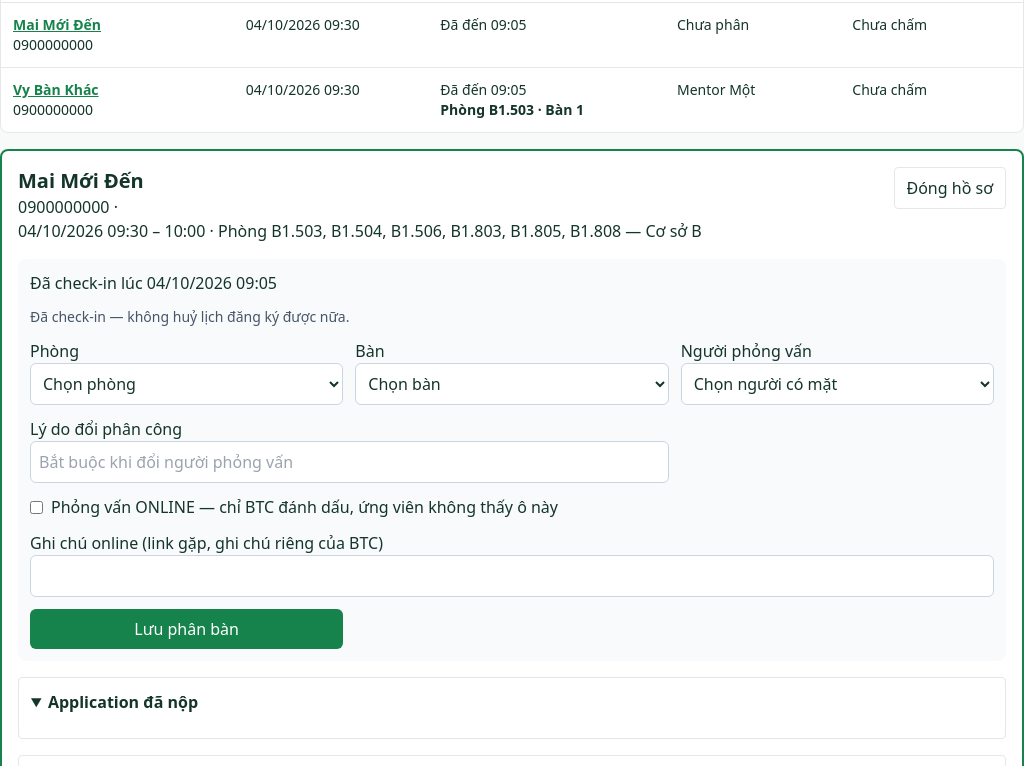
form phân bàn › chọn bàn / mentor đang có người chưa chấm → hiện lời nhắc, nút lưu vẫn bấm được
This screenshot has width=1024, height=766.
(page scrolled)
Select "B1.504" in the dropdown labelled "Phòng": [187, 384] box top-left (30, 363), bottom-right (343, 405)
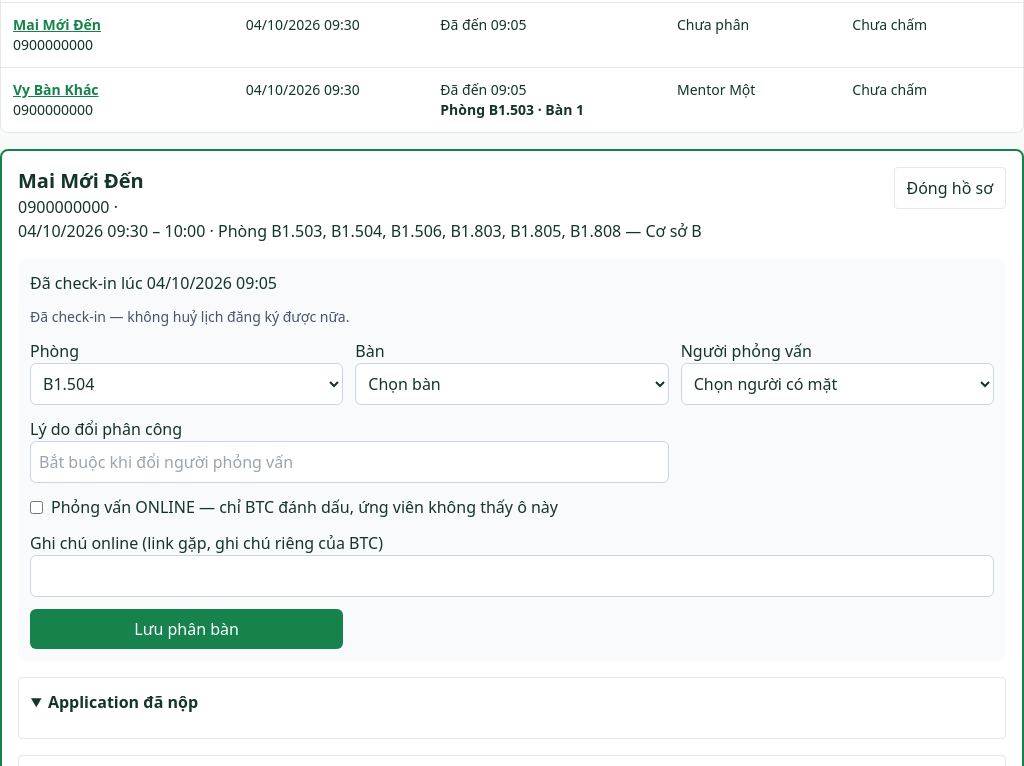
Select "3" in the dropdown labelled "Bàn": [512, 384] box top-left (355, 363), bottom-right (669, 405)
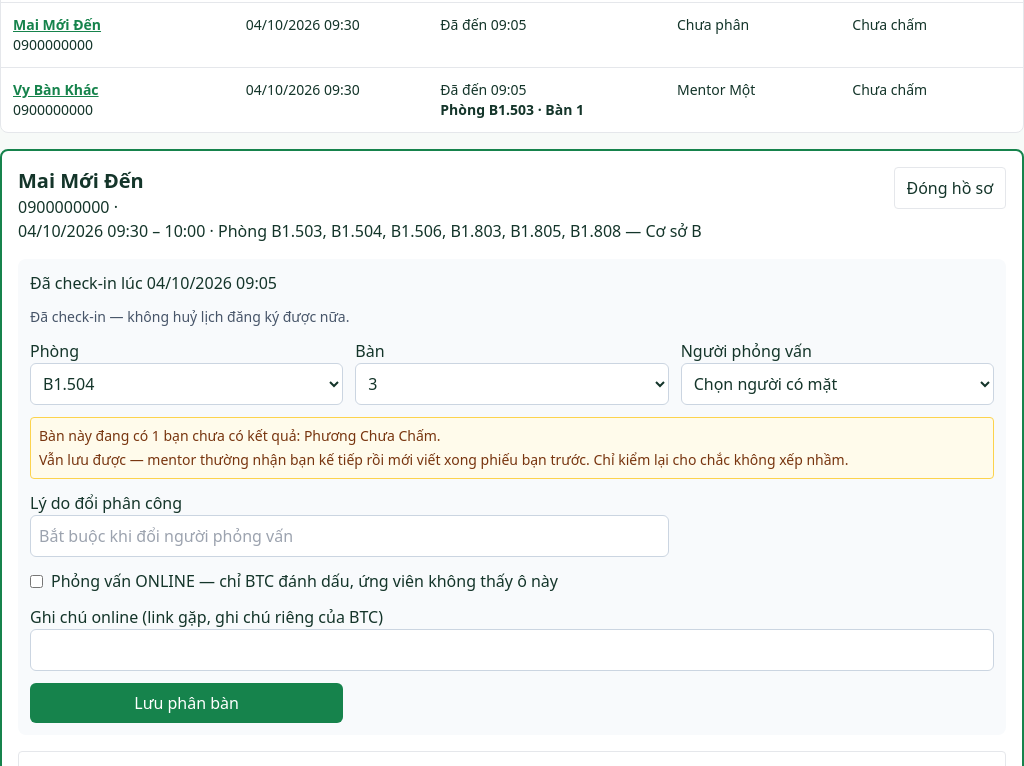
Expected: the element with test id "assign-busy-note" does not show "Mentor này"
Expected: the element with test id "assign-busy-note" shows "Bàn này đang có 1 bạn chưa có kết quả: Phương Chưa Chấm.", top-left (30, 417), bottom-right (994, 479)
Select "Mentor Một" in the dropdown labelled "Người phỏng vấn": [837, 384] box top-left (681, 363), bottom-right (994, 405)
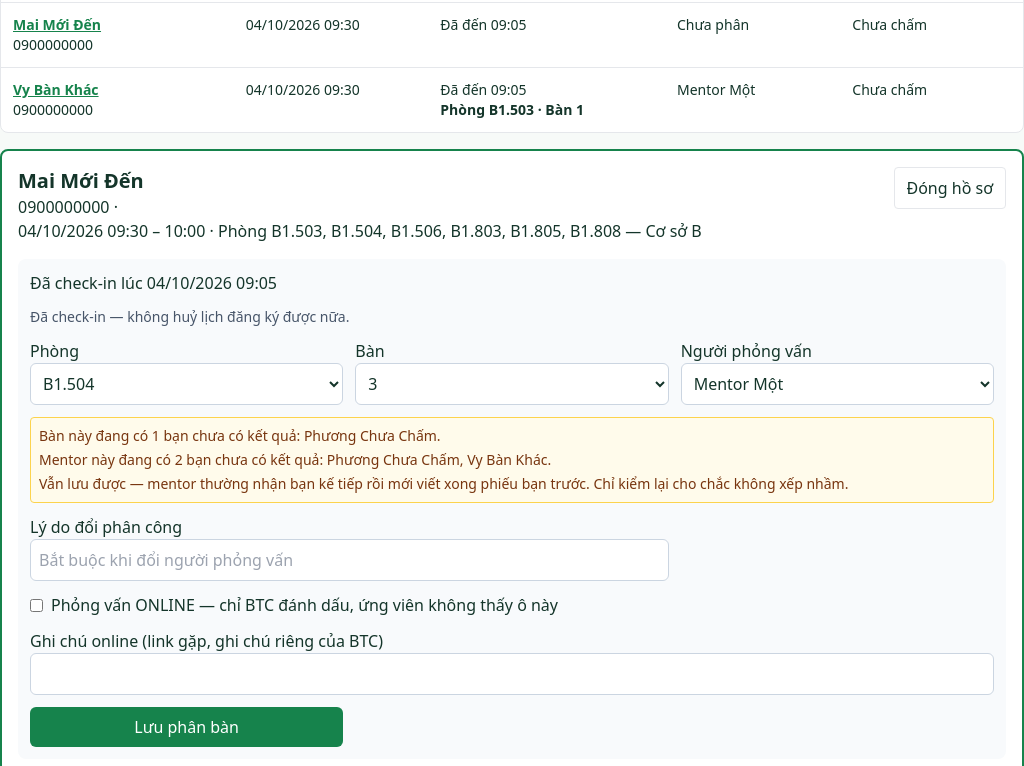
Expected: the button "Lưu phân bàn" is enabled, top-left (30, 707), bottom-right (343, 747)
Expected: the element with test id "assign-busy-note" shows "Mentor này đang có 2 bạn chưa có kết quả: Phương Chưa Chấm, Vy Bàn Khác.", top-left (30, 417), bottom-right (994, 503)
Select "4" in the dropdown labelled "Bàn": [512, 384] box top-left (355, 363), bottom-right (669, 405)
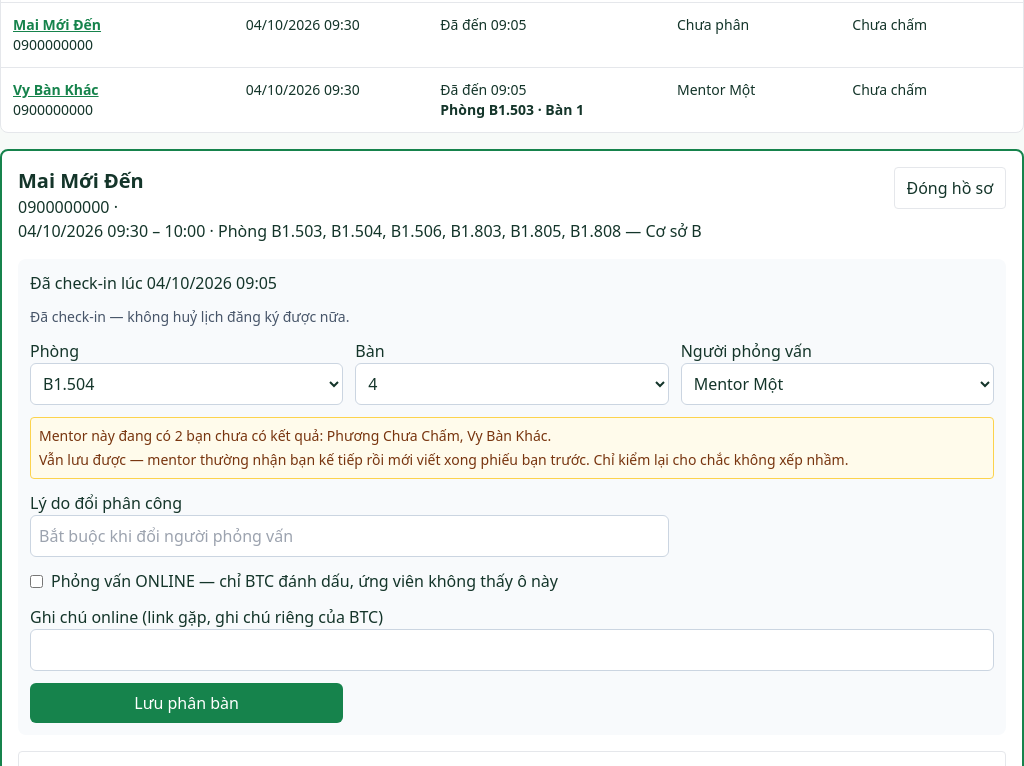
Select "Mentor Hai" in the dropdown labelled "Người phỏng vấn": [837, 384] box top-left (681, 363), bottom-right (994, 405)
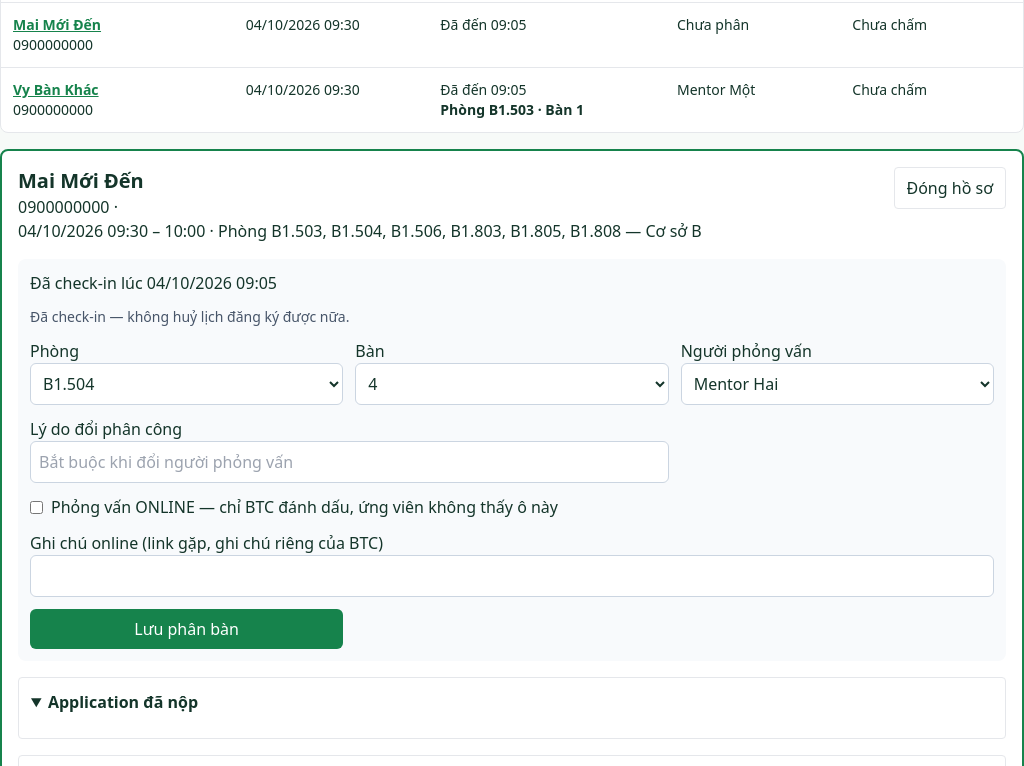
Expected: the element with test id "assign-busy-note" is gone
